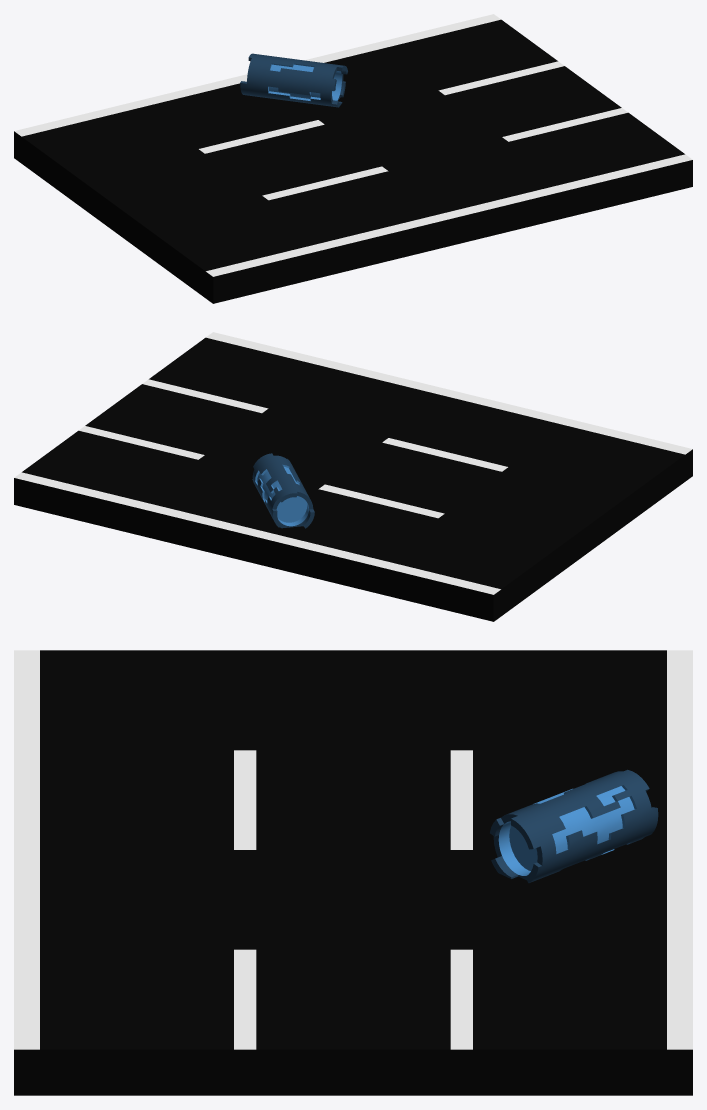
Rendered from Route Tronc V3.fbx.
3 renders of one model, top to bottom at view 1: azimuth 30°, elevation 25°; view 2: azimuth 150°, elevation 25°; view 3: azimuth 270°, elevation 25°, orthographic. The views are drawn at different scales.
Visible parts, largest first — view 1: Route Tronc V3; view 2: Route Tronc V3; view 3: Route Tronc V3.
Part boxes in pixels (box(x1,y1,x2,y2)): Route Tronc V3: box(14, 14, 692, 303); Route Tronc V3: box(14, 332, 692, 621); Route Tronc V3: box(14, 650, 692, 1095).
Size of the model in its own units: 501 by 62.35 by 360.
